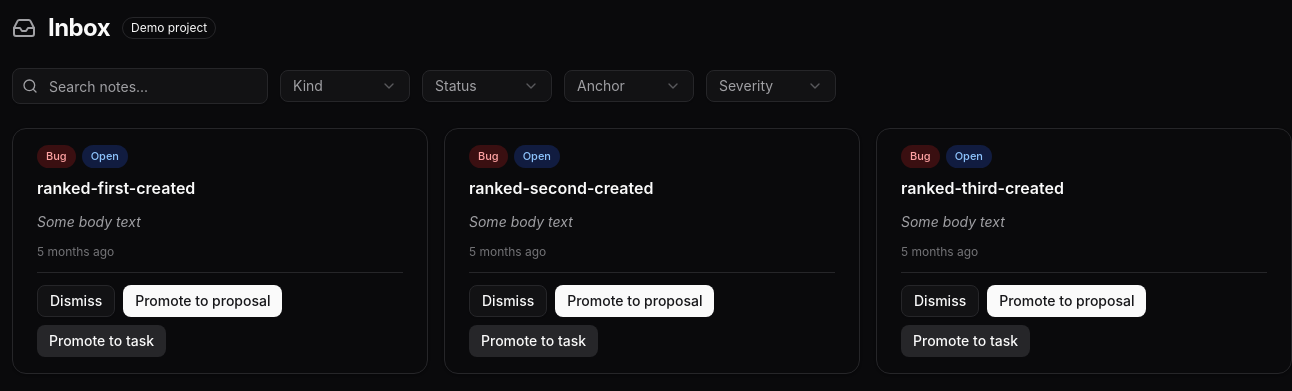
it: NotesPage › renders free-text results in FTS RANK order (hit order), not list order
In the field with placeholder "Search notes...": (140, 86) [12,68,268,104], type "ranked"
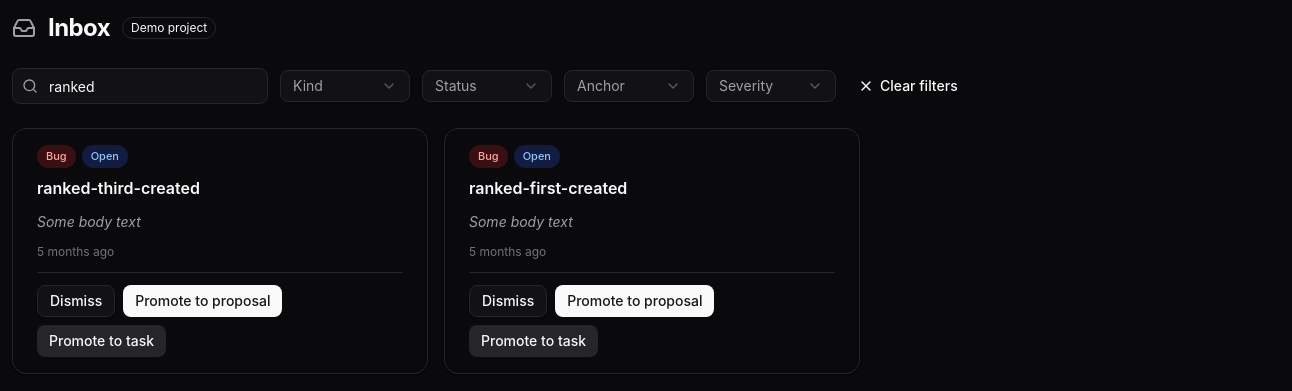
Result: the button "ranked-second-created" is gone
Result: the elements "ranked-" read "ranked-third-created", "ranked-first-created", in this order at [37,176,200,200]; [469,176,627,200]
